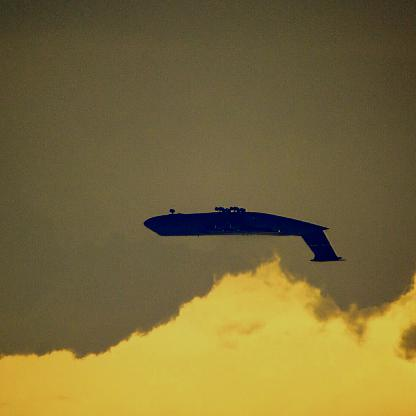C17: (142, 208, 348, 262)
